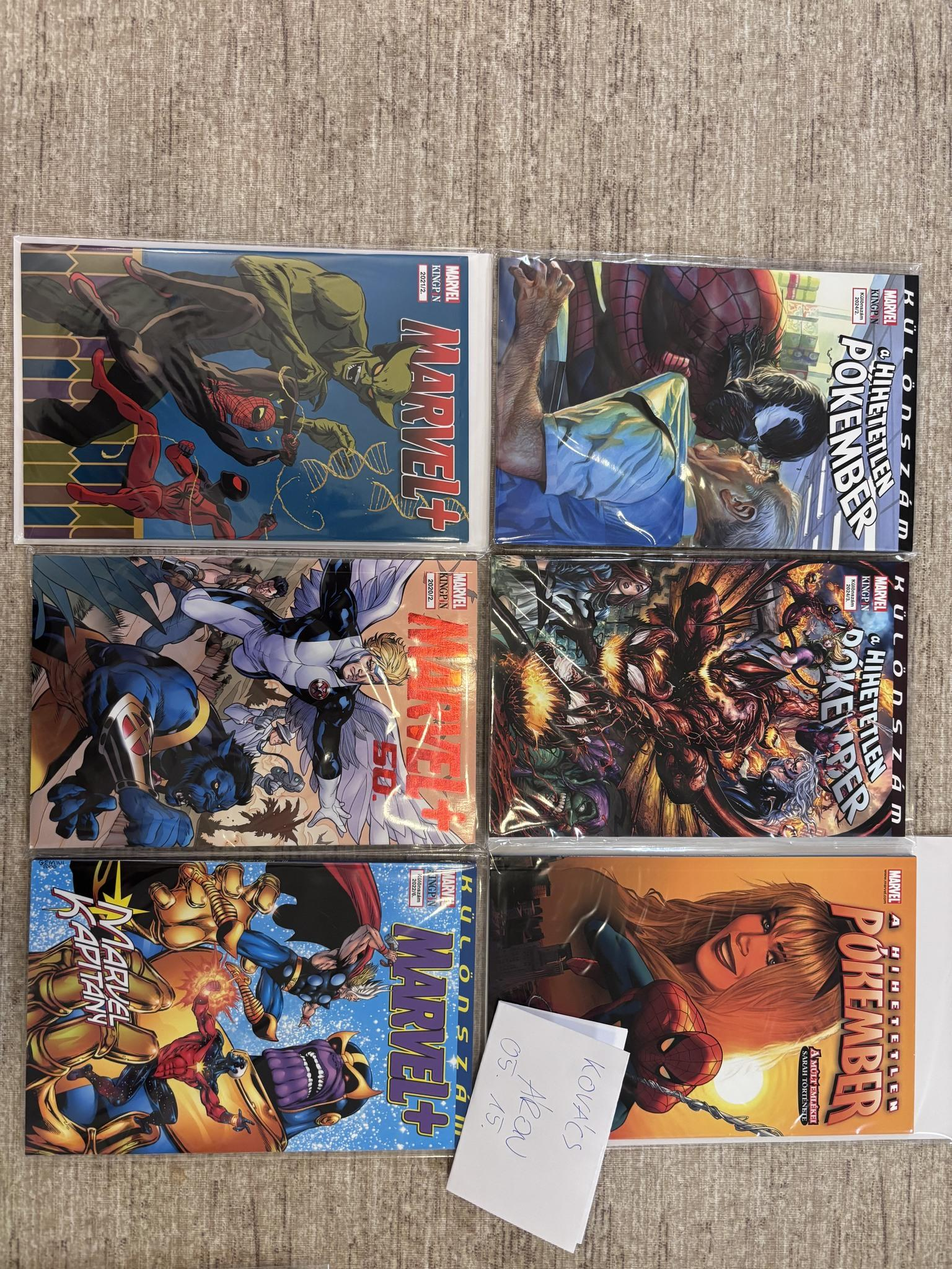comic: (11, 239, 491, 549), (25, 858, 476, 1156), (30, 553, 477, 849), (493, 256, 919, 555), (489, 854, 915, 1140), (491, 556, 907, 836)
